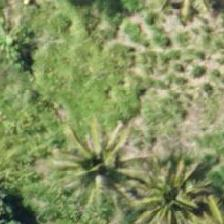coconut_tree: (55, 124, 145, 214), (126, 157, 216, 223)
